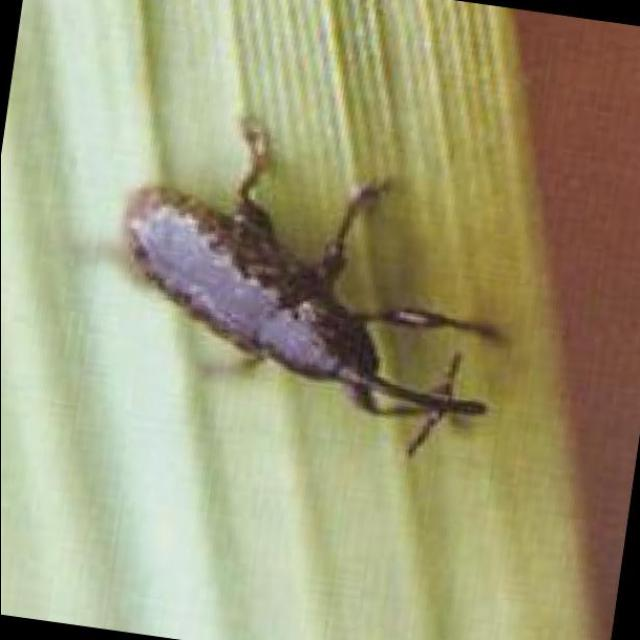ricebug: (122, 124, 497, 455)
